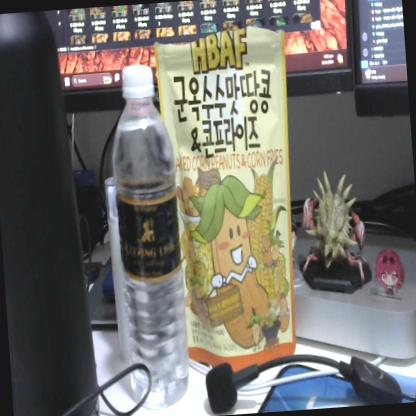plastic_bottles: (106, 58, 194, 414)
